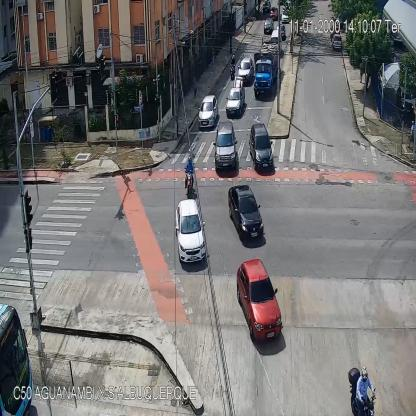car: (236, 259, 284, 340), (229, 186, 264, 242), (176, 200, 206, 265), (249, 121, 274, 168), (214, 121, 238, 168), (198, 95, 218, 127), (226, 89, 245, 119), (239, 60, 253, 84), (264, 19, 272, 36), (278, 24, 286, 40), (333, 34, 341, 48), (281, 10, 290, 22), (271, 7, 278, 20)
motorbike: (349, 364, 376, 416), (185, 155, 196, 197), (230, 54, 236, 82)
person: (408, 121, 414, 149), (193, 73, 197, 99), (289, 38, 293, 54), (211, 49, 214, 67)
truck: (254, 45, 278, 96)
